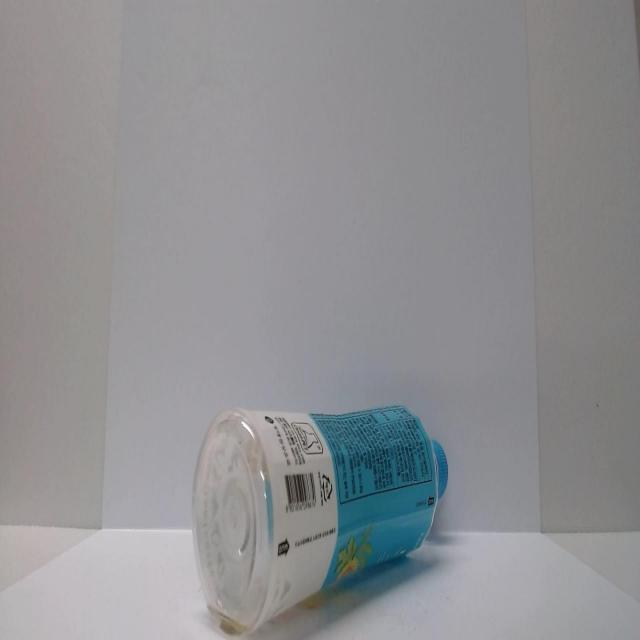bottle: (184, 383, 466, 640)
